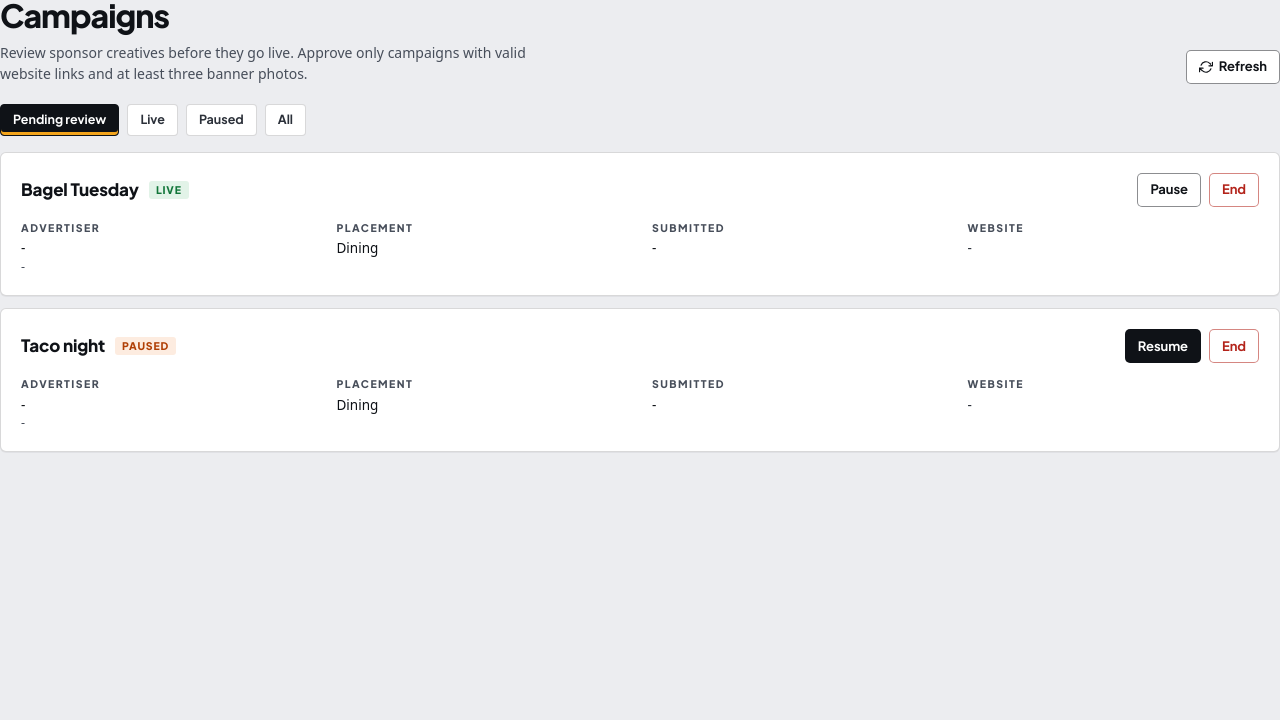
Scenario: AdminCampaigns confirm dialogs › asks to pause and resume a live or paused campaign by those names
This screenshot has width=1280, height=720.
Click the button "Pause" at (1169, 190), box x1=1137 y1=173 x2=1201 y2=207
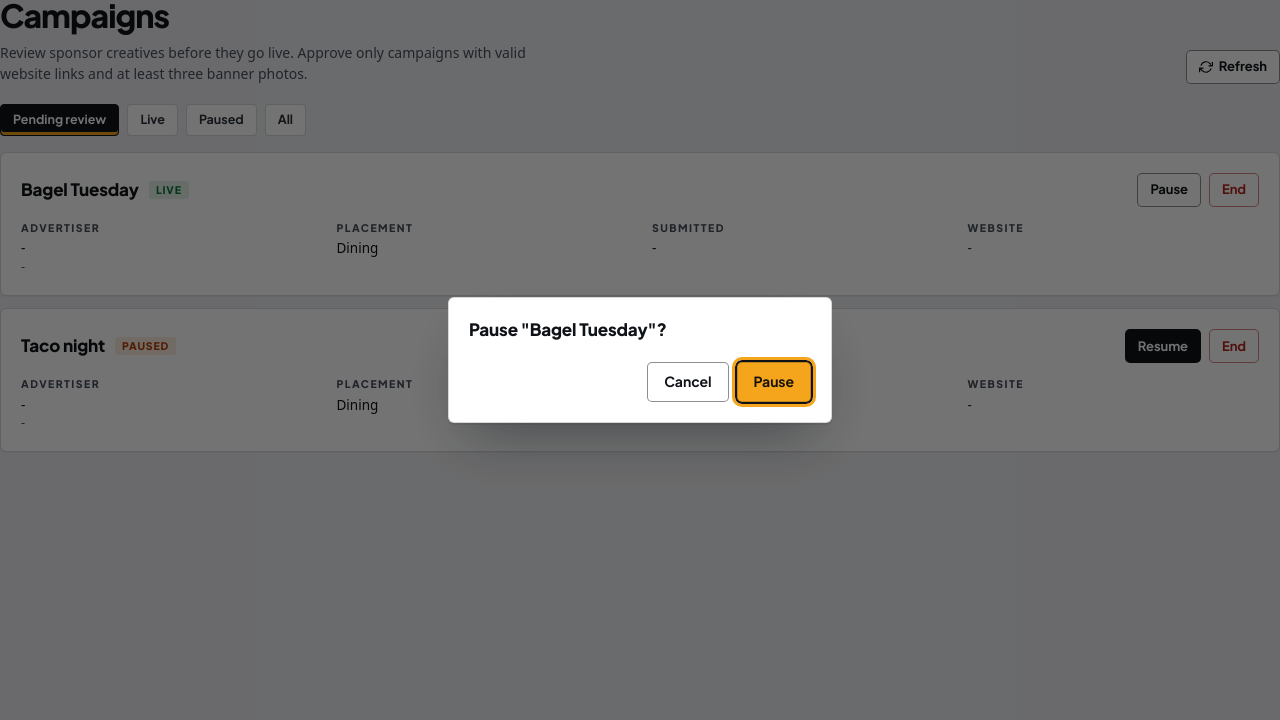
Result: the heading reads "Pause \"Bagel Tuesday\"?" at x1=469 y1=319 x2=667 y2=340
Click the button "Cancel" at (688, 382), box x1=647 y1=362 x2=728 y2=402
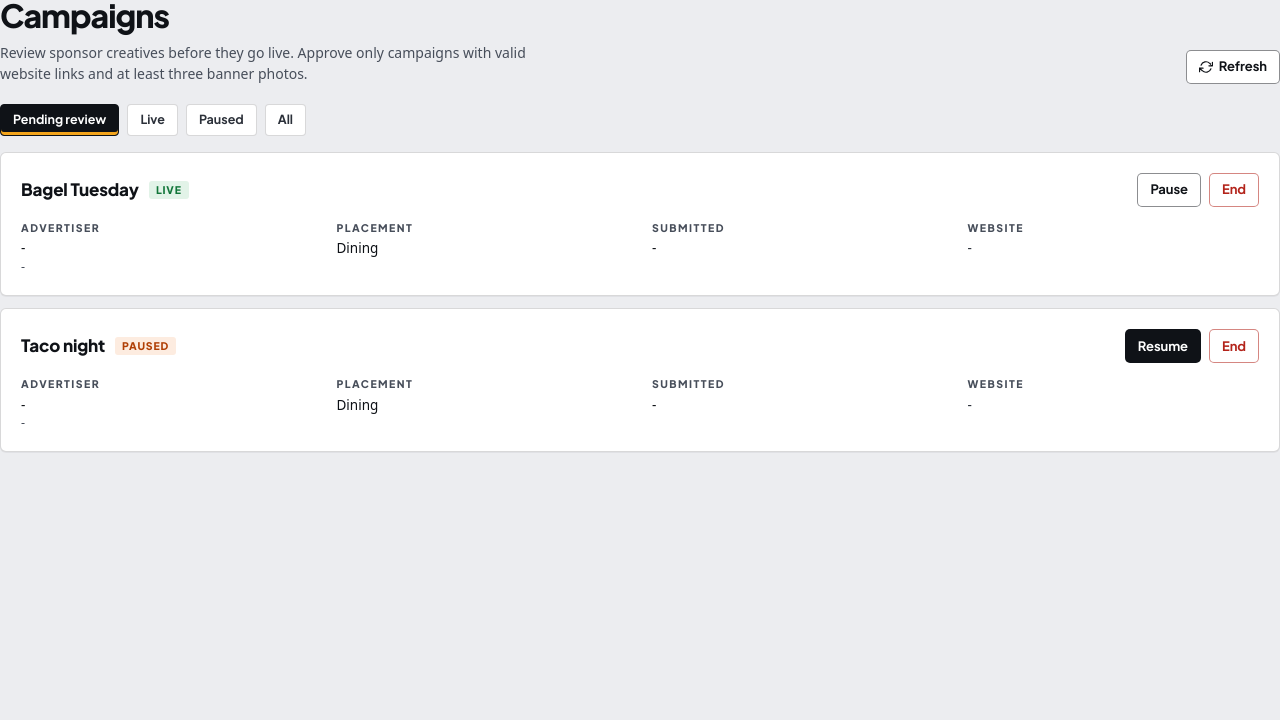
Result: the dialog is gone
Click the button "Resume" at (1163, 346), box x1=1125 y1=329 x2=1201 y2=363
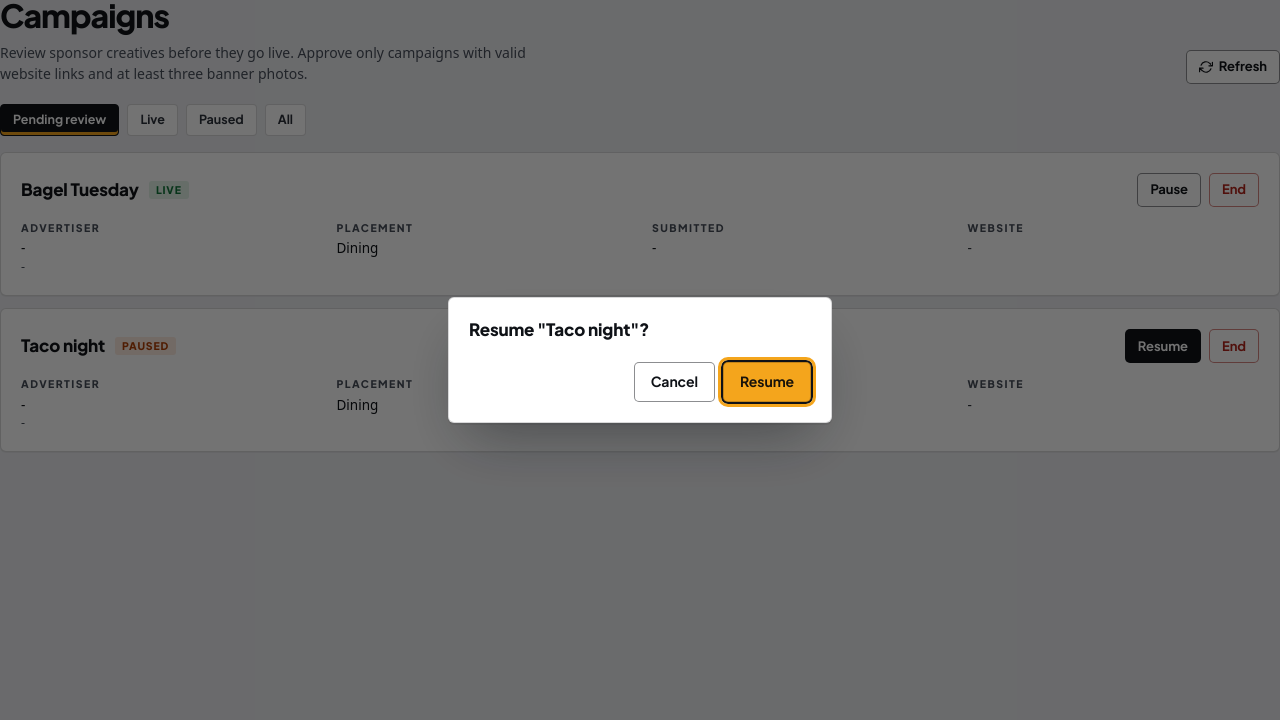
Result: the heading reads "Resume \"Taco night\"?" at x1=469 y1=319 x2=649 y2=340
